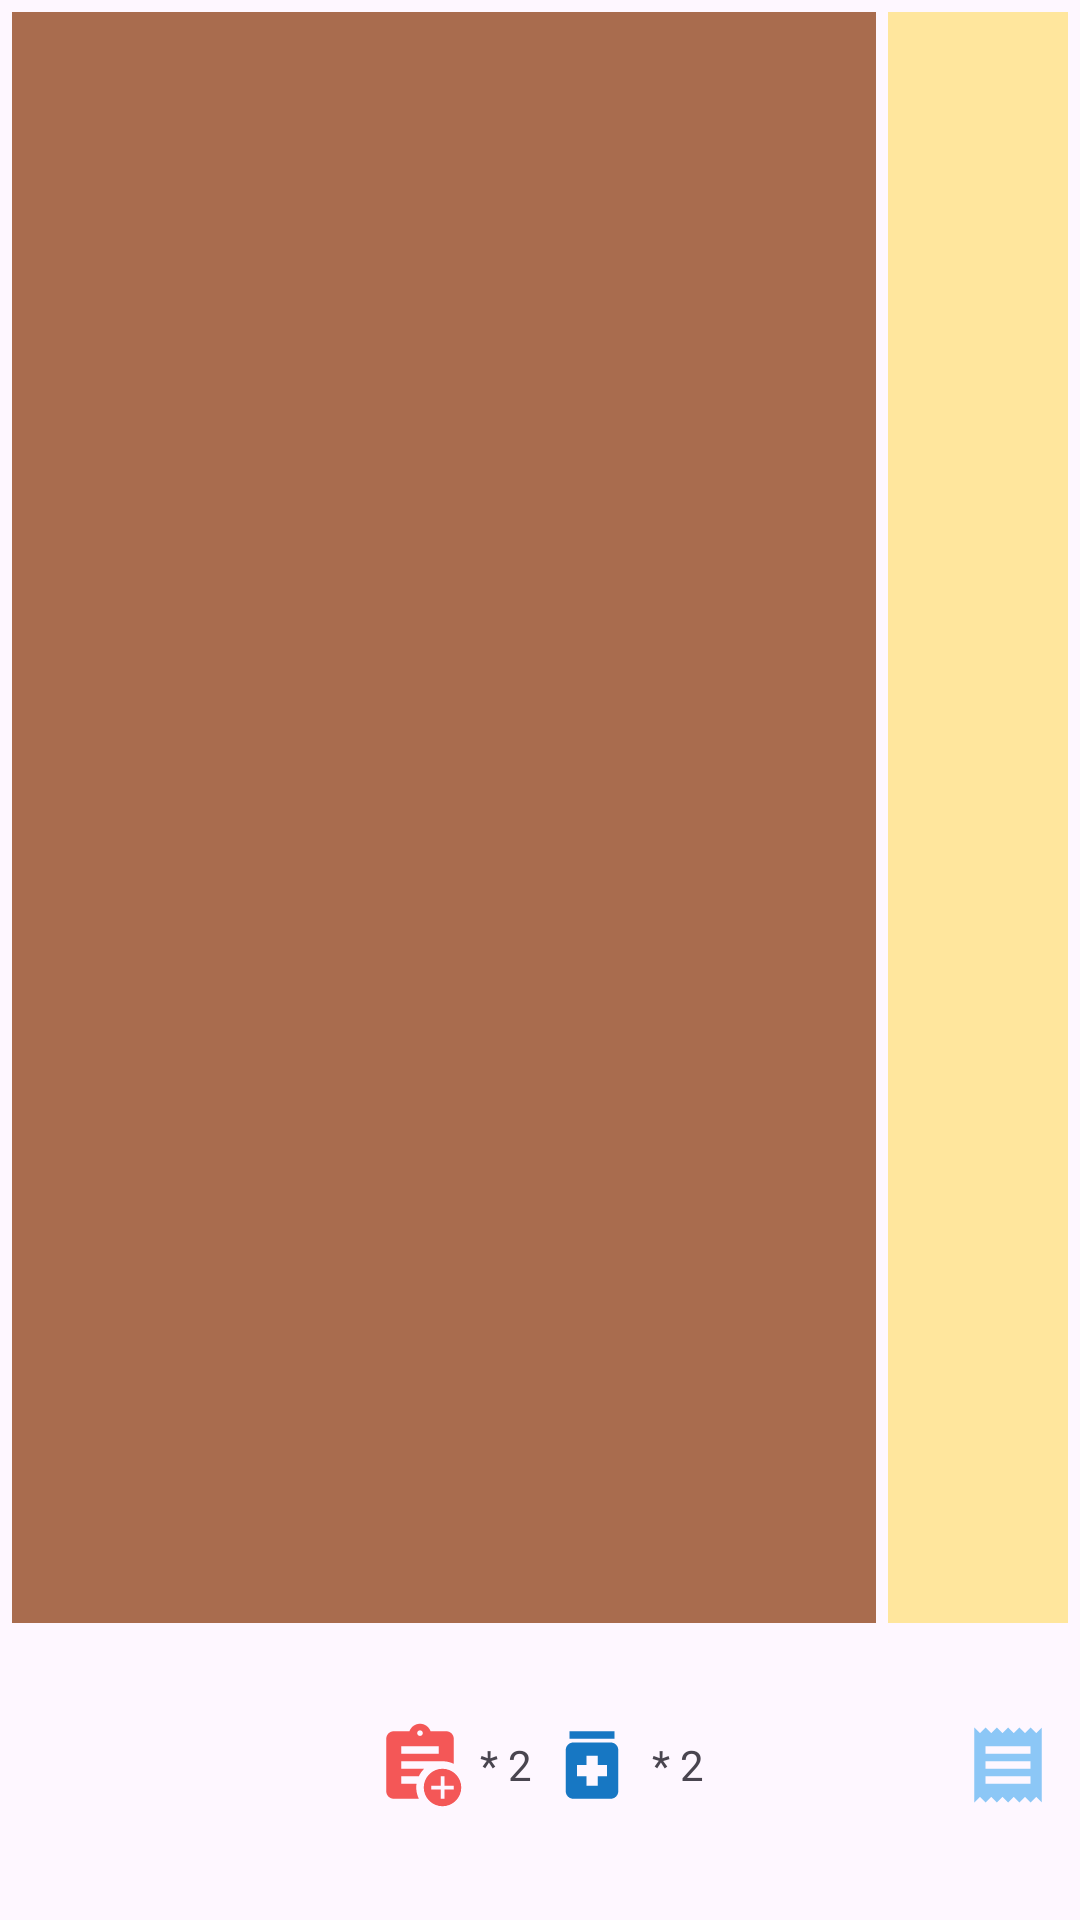

Icons on this 1080w x 1920h Android screen, each with its box as bbox=[x1, y1, x2, y2]:
medication: bbox=[565, 1731, 619, 1799]
receipt: bbox=[974, 1727, 1042, 1803]
